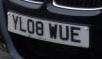8: (35, 20, 44, 36)
E: (70, 26, 82, 44)
L: (19, 16, 26, 32)
O: (27, 18, 35, 35)
U: (59, 24, 70, 41)
W: (48, 22, 58, 40)
Y: (11, 14, 19, 30)
